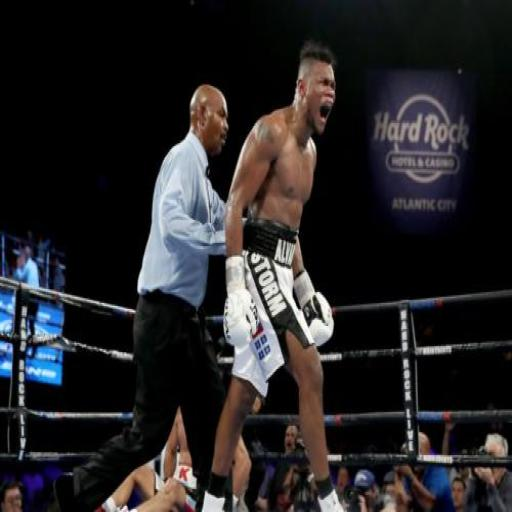boxing: (193, 42, 351, 510)
